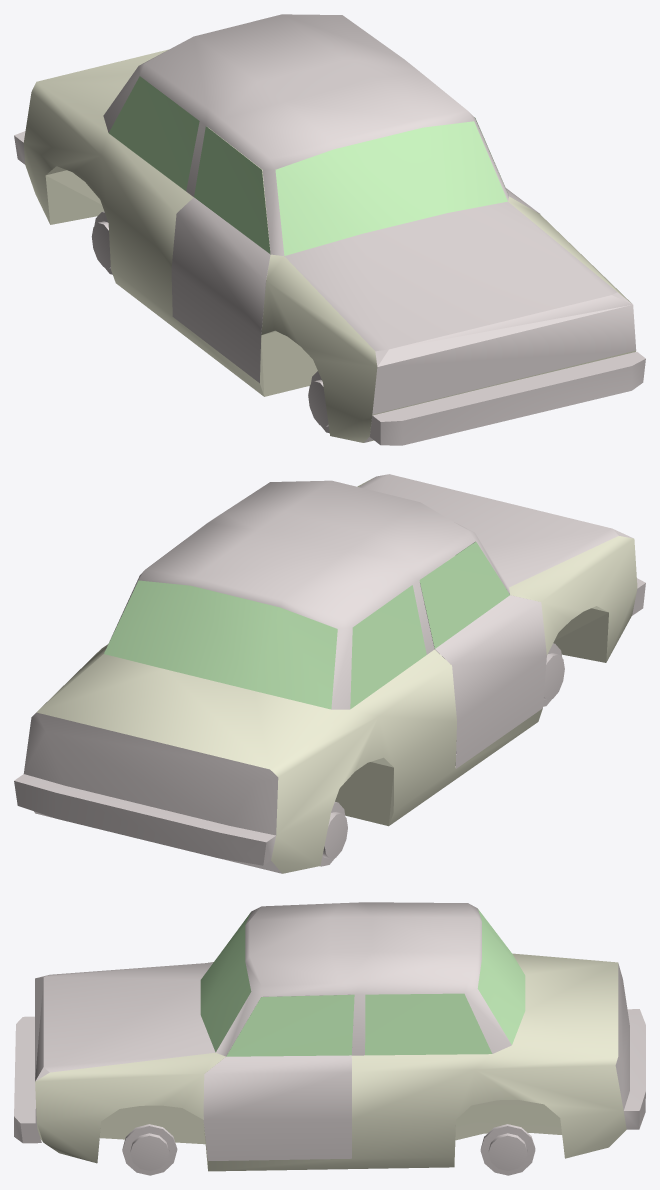
File: car01a.fbx
3 views of the same model, one above another, from view 1: azimuth 30°, elevation 25°; view 2: azimuth 150°, elevation 25°; view 3: azimuth 270°, elevation 25° (orthographic). The views are drawn at different scales.
Visible parts, largest first — view 1: car01a_reference; view 2: car01a_reference; view 3: car01a_reference.
Boxes of the visible parts, x1=… form: car01a_reference: x1=14, y1=14, x2=645, y2=445; car01a_reference: x1=14, y1=474, x2=645, y2=873; car01a_reference: x1=14, y1=902, x2=645, y2=1175.
Bounding box in the file's own units: 7424 × 5878 × 17227.
